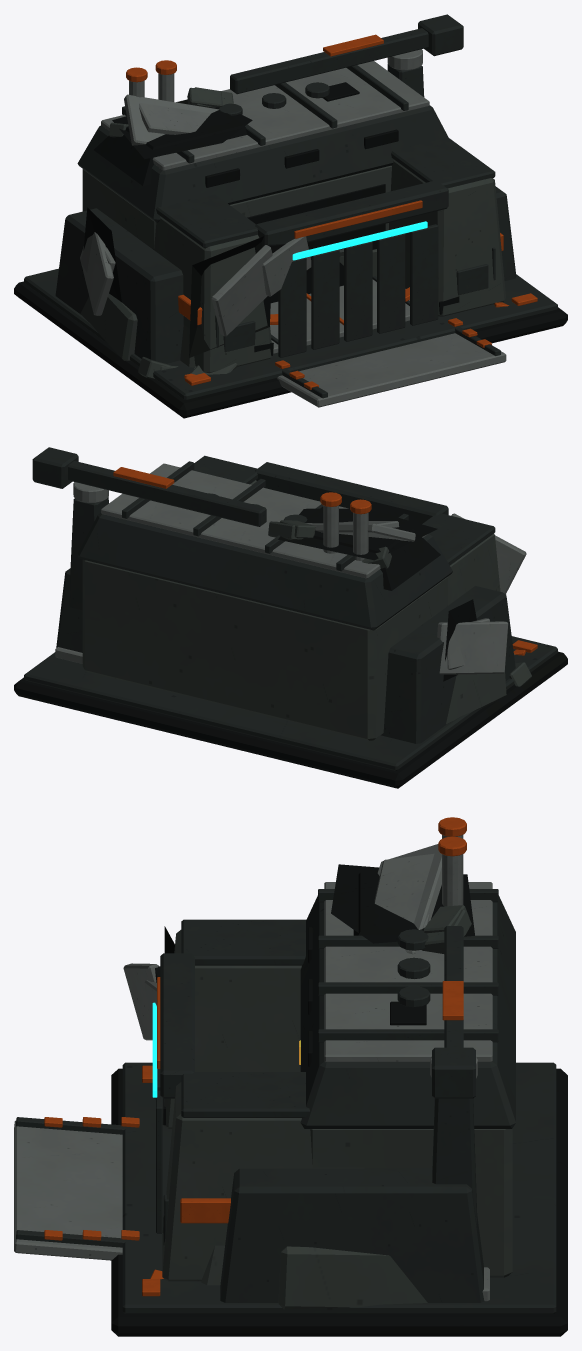
File: ff_fac_01_v1.glb
3 renders of one model, top to bottom at view 1: azimuth 30°, elevation 25°; view 2: azimuth 150°, elevation 25°; view 3: azimuth 270°, elevation 25°, orthographic. The views are drawn at different scales.
Visible parts, largest first — view 1: FF_FAC_01_M_Gunmetal_runtime, FF_FAC_01_M_ArmorPanel_runtime, FF_FAC_01_M_Steel_runtime, factory_door_M_Gunmetal_runtime, FF_FAC_01_M_Recess_runtime, damage_critical_collapse, damage_critical_bent_armor, crane_yaw_M_Gunmetal_runtime, damage_damaged_bent_armor, FF_FAC_01_M_AmberArmor_runtime, ruin_collapsed_structure, damage_damaged_breach (+5 smaller); view 2: FF_FAC_01_M_Gunmetal_runtime, FF_FAC_01_M_ArmorPanel_runtime, FF_FAC_01_M_Recess_runtime, FF_FAC_01_M_Steel_runtime, crane_yaw_M_Gunmetal_runtime, damage_critical_bent_armor, damage_critical_collapse, ruin_collapsed_structure, damage_critical_debris, FF_FAC_01_M_AmberArmor_runtime, damage_damaged_breach, damage_damaged_bent_armor (+2 smaller); view 3: FF_FAC_01_M_Gunmetal_runtime, FF_FAC_01_M_ArmorPanel_runtime, FF_FAC_01_M_Steel_runtime, FF_FAC_01_M_Recess_runtime, ruin_collapsed_structure, damage_critical_collapse, FF_FAC_01_M_AmberArmor_runtime, crane_yaw_M_Gunmetal_runtime, damage_damaged_bent_armor, damage_critical_bent_armor, factory_door_M_Gunmetal_runtime, crane_yaw_M_AmberArmor_runtime (+2 smaller).
Part boxes in pixels (x1,y1,x2,y2): FF_FAC_01_M_Gunmetal_runtime: (24, 64, 557, 400); FF_FAC_01_M_ArmorPanel_runtime: (82, 160, 505, 373); FF_FAC_01_M_Steel_runtime: (101, 61, 506, 407); factory_door_M_Gunmetal_runtime: (278, 224, 438, 357); FF_FAC_01_M_Recess_runtime: (14, 82, 567, 418); damage_critical_collapse: (94, 99, 270, 357); damage_critical_bent_armor: (80, 94, 272, 336); crane_yaw_M_Gunmetal_runtime: (230, 14, 463, 94); damage_damaged_bent_armor: (80, 103, 311, 296); FF_FAC_01_M_AmberArmor_runtime: (126, 60, 537, 389); ruin_collapsed_structure: (80, 249, 376, 367); damage_damaged_breach: (82, 207, 314, 302); FF_FAC_01_M_Gunmetal_runtime: (24, 455, 557, 770); FF_FAC_01_M_ArmorPanel_runtime: (82, 480, 500, 740); FF_FAC_01_M_Recess_runtime: (14, 651, 567, 788); FF_FAC_01_M_Steel_runtime: (55, 463, 506, 663); crane_yaw_M_Gunmetal_runtime: (32, 447, 266, 526); damage_critical_bent_armor: (305, 513, 526, 674); damage_critical_collapse: (278, 506, 440, 590); ruin_collapsed_structure: (446, 671, 506, 724); damage_critical_debris: (268, 521, 531, 686); FF_FAC_01_M_AmberArmor_runtime: (320, 492, 537, 652); damage_damaged_breach: (443, 599, 476, 681); damage_damaged_bent_armor: (315, 521, 489, 669); FF_FAC_01_M_Gunmetal_runtime: (16, 889, 556, 1313); FF_FAC_01_M_ArmorPanel_runtime: (162, 930, 512, 1281); FF_FAC_01_M_Steel_runtime: (14, 835, 492, 1301); FF_FAC_01_M_Recess_runtime: (111, 927, 567, 1336); ruin_collapsed_structure: (201, 1245, 427, 1309); damage_critical_collapse: (164, 864, 474, 953); FF_FAC_01_M_AmberArmor_runtime: (44, 817, 466, 1296); crane_yaw_M_Gunmetal_runtime: (432, 926, 475, 1098); damage_damaged_bent_armor: (144, 853, 434, 1033); damage_critical_bent_armor: (123, 844, 441, 1040); factory_door_M_Gunmetal_runtime: (156, 1069, 162, 1233); crane_yaw_M_AmberArmor_runtime: (442, 981, 463, 1020).
Bounding box in the file's own units: 13.31 × 7.36 × 11.52.
Materials: 7 (5 with a texture image).
